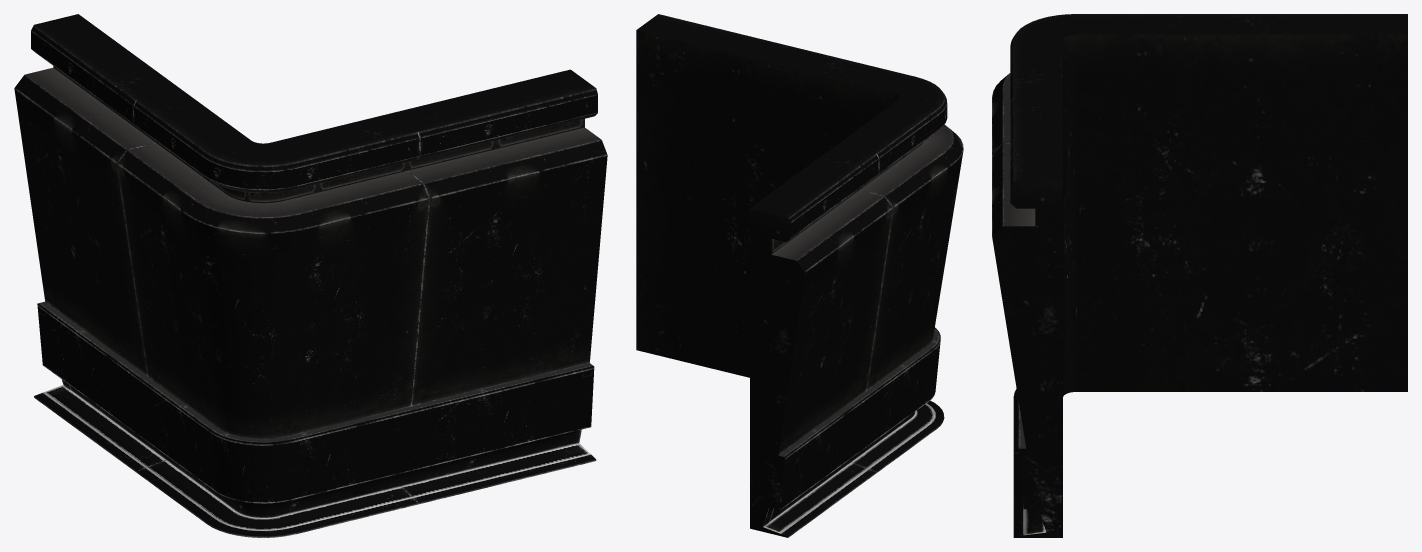
Rendered from SM_Wall_Corner_A.FBX.
3 views of the same model, side by side, from view 1: azimuth 30°, elevation 25°; view 2: azimuth 150°, elevation 25°; view 3: azimuth 270°, elevation 25° (orthographic). The views are drawn at different scales.
Parts seen in each view (by area): view 1: SM_Wall_Corner_A; view 2: SM_Wall_Corner_A; view 3: SM_Wall_Corner_A.
Part boxes in pixels (box(x1,y1,x2,y2)): SM_Wall_Corner_A: box(14, 14, 607, 537); SM_Wall_Corner_A: box(636, 14, 963, 537); SM_Wall_Corner_A: box(992, 14, 1407, 537).
Size of the model in its own units: 423 by 400 by 422.
1 material, 1 textured.
